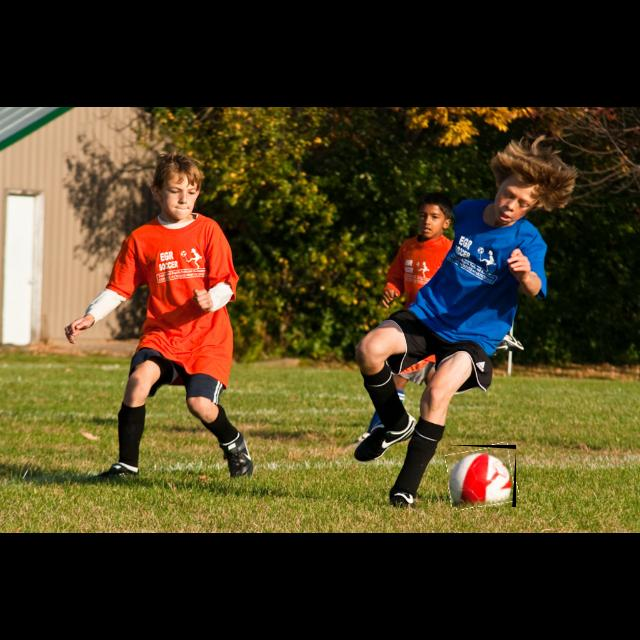Football: (448, 445, 516, 507)
